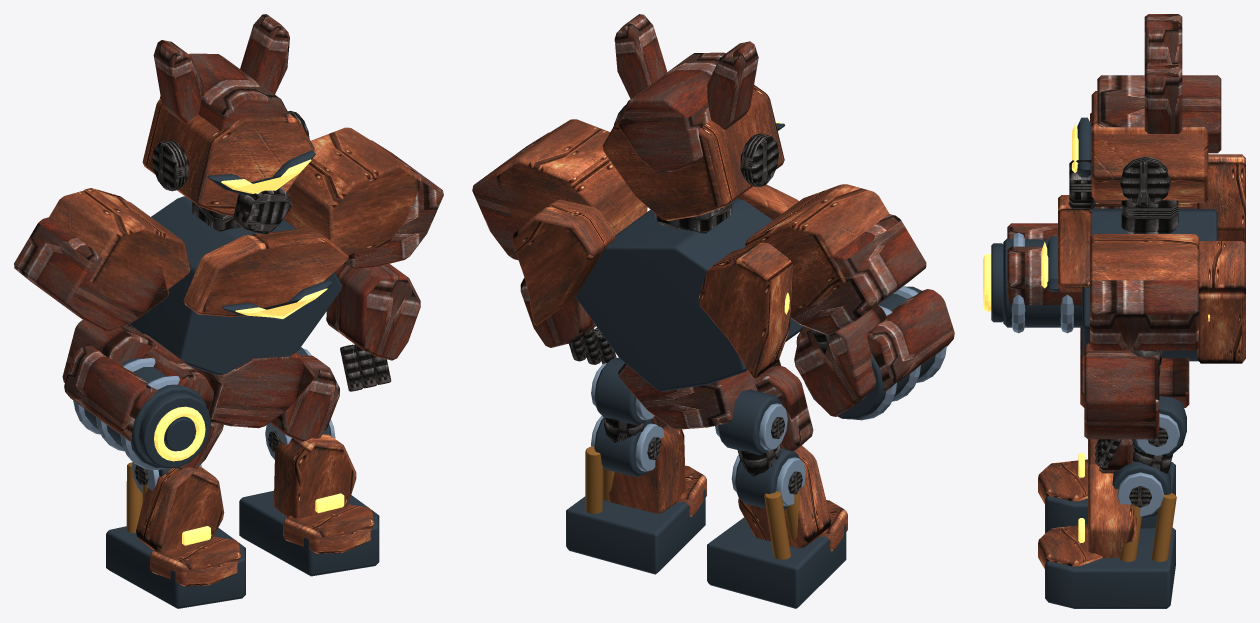
File: scout.glb
3 views of the same model, side by side, from view 1: azimuth 30°, elevation 25°; view 2: azimuth 150°, elevation 25°; view 3: azimuth 270°, elevation 25° (orthographic). The views are drawn at different scales.
Parts seen in each view (by area): view 1: Navy crown, Cuirass yoke, Angular scout torso, Greave armor, Greave armor.001, Neck actuator, Servo housing.004, Servo housing.001, Recessed V optic, Tapered thigh shield.001, Bearing ring, Calf piston; view 2: Cuirass yoke, Navy crown, Angular scout torso, Servo housing.001, Servo housing.004, Greave armor.001, Neck actuator, Greave armor, Tapered thigh shield, Bearing ring.002, Calf piston, Calf piston.002 (+4 smaller); view 3: Navy crown, Cuirass yoke, Servo housing.004, Angular scout torso, Neck actuator, Greave armor.001, Greave armor, Bearing ring.008, Calf piston.002, Servo housing.001, Hub.008, Recessed V optic (+2 smaller).
Part boxes in pixels (x1,y1,x2,y2): Navy crown: (14,14,443,442); Cuirass yoke: (49,98,421,316); Angular scout torso: (73,150,341,468); Greave armor: (136,466,240,586); Greave armor.001: (273,434,374,553); Neck actuator: (152,111,391,391); Servo housing.004: (239,347,379,576); Servo housing.001: (106,468,245,608); Recessed V optic: (154,159,327,461); Tapered thigh shield.001: (270,355,339,441); Bearing ring: (73,358,179,469); Calf piston: (126,462,147,533); Cuirass yoke: (495,85,889,378); Navy crown: (472,14,954,429); Angular scout torso: (575,123,935,419); Servo housing.001: (707,389,846,608); Servo housing.004: (566,357,705,574); Greave armor.001: (608,424,706,516); Neck actuator: (568,105,829,364); Greave armor: (738,445,847,551); Tapered thigh shield: (755,365,813,451); Bearing ring.002: (715,403,805,506); Calf piston: (764,490,800,559); Calf piston.002: (585,446,614,513); Navy crown: (1007,14,1221,439); Cuirass yoke: (1058,91,1245,363); Servo housing.004: (1045,395,1186,608); Angular scout torso: (991,117,1217,361); Neck actuator: (1069,156,1178,468); Greave armor.001: (1038,463,1136,568); Greave armor: (1038,439,1133,503); Bearing ring.008: (1117,413,1179,516); Calf piston.002: (1119,493,1176,561); Servo housing.001: (1045,462,1175,533); Hub.008: (1129,427,1172,507); Recessed V optic: (983,124,1078,311).
Size of the model in its own units: 1.17 by 1.52 by 0.699.
Materials: 8 (3 with a texture image).
